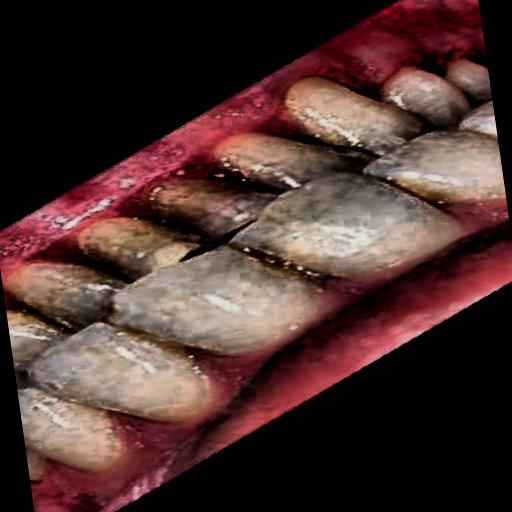Calculus: (18, 28, 504, 382)
